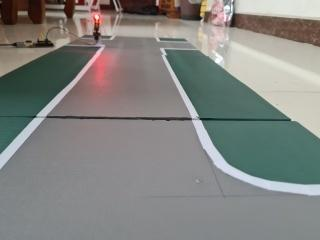red: (88, 7, 107, 32)
